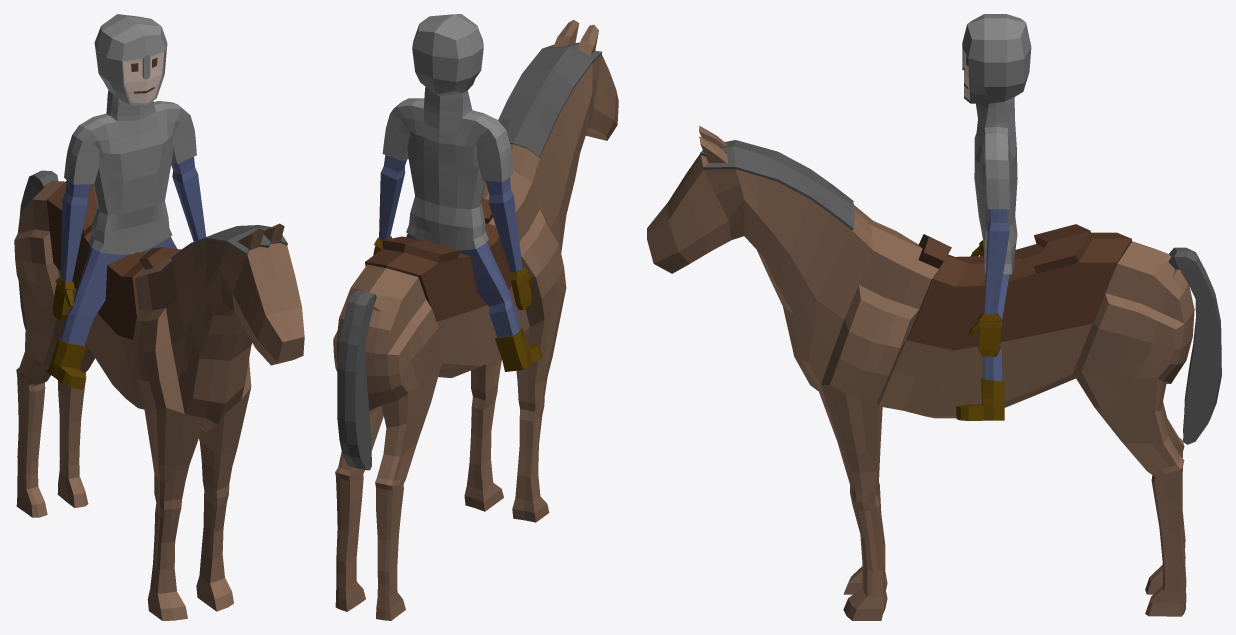
File: LowPolyCav.fbx
The picture shows the model from 3 angles, left to right: view 1: azimuth 30°, elevation 25°; view 2: azimuth 150°, elevation 25°; view 3: azimuth 270°, elevation 25°; orthographic projection. The views are drawn at different scales.
Visible parts, largest first — view 1: Horse, Knight; view 2: Horse, Knight; view 3: Horse, Knight.
Part boxes in pixels (bbox=[...]): Horse: bbox=[14, 170, 304, 620]; Knight: bbox=[47, 14, 206, 389]; Horse: bbox=[333, 19, 618, 620]; Knight: bbox=[373, 14, 542, 371]; Horse: bbox=[647, 126, 1221, 620]; Knight: bbox=[956, 14, 1031, 420].
Bounding box in the file's own units: 3.23 × 10.22 × 9.12.
